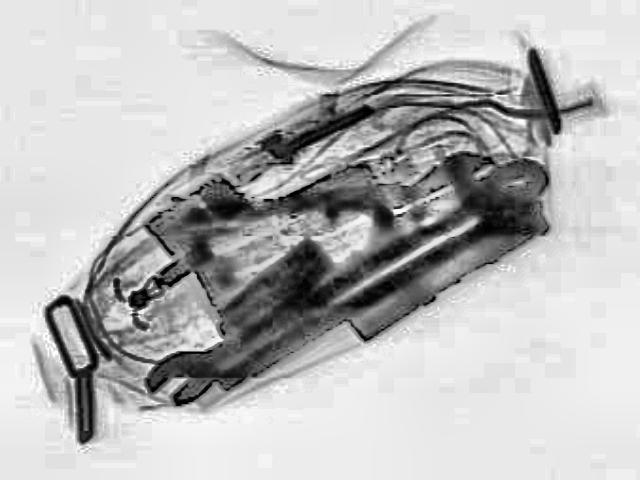Wrench: (128, 146, 560, 412)
